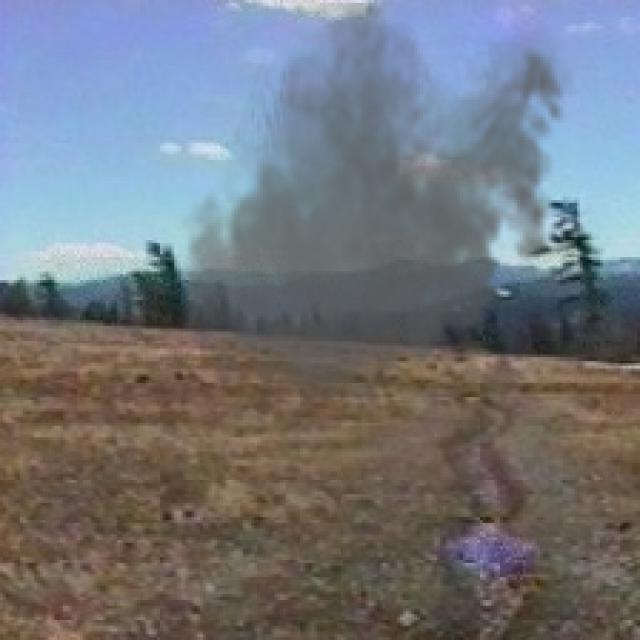smoke: (174, 3, 577, 426)
